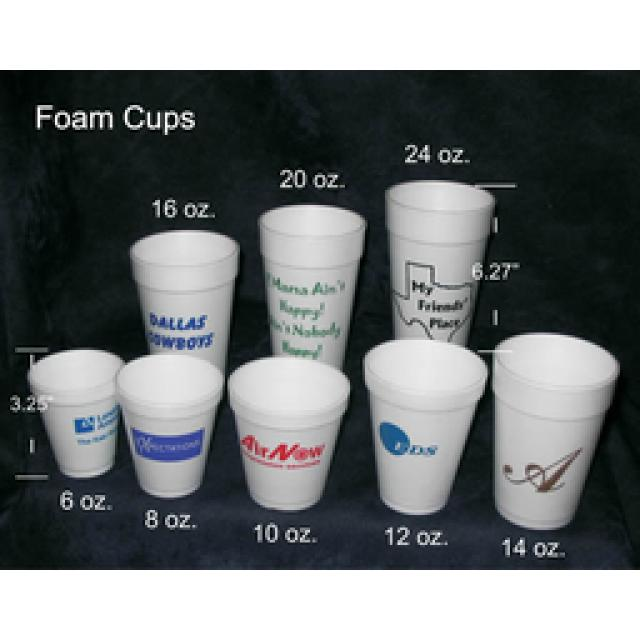styrofoam: (362, 180, 618, 528), (30, 230, 238, 495), (230, 205, 362, 508)
